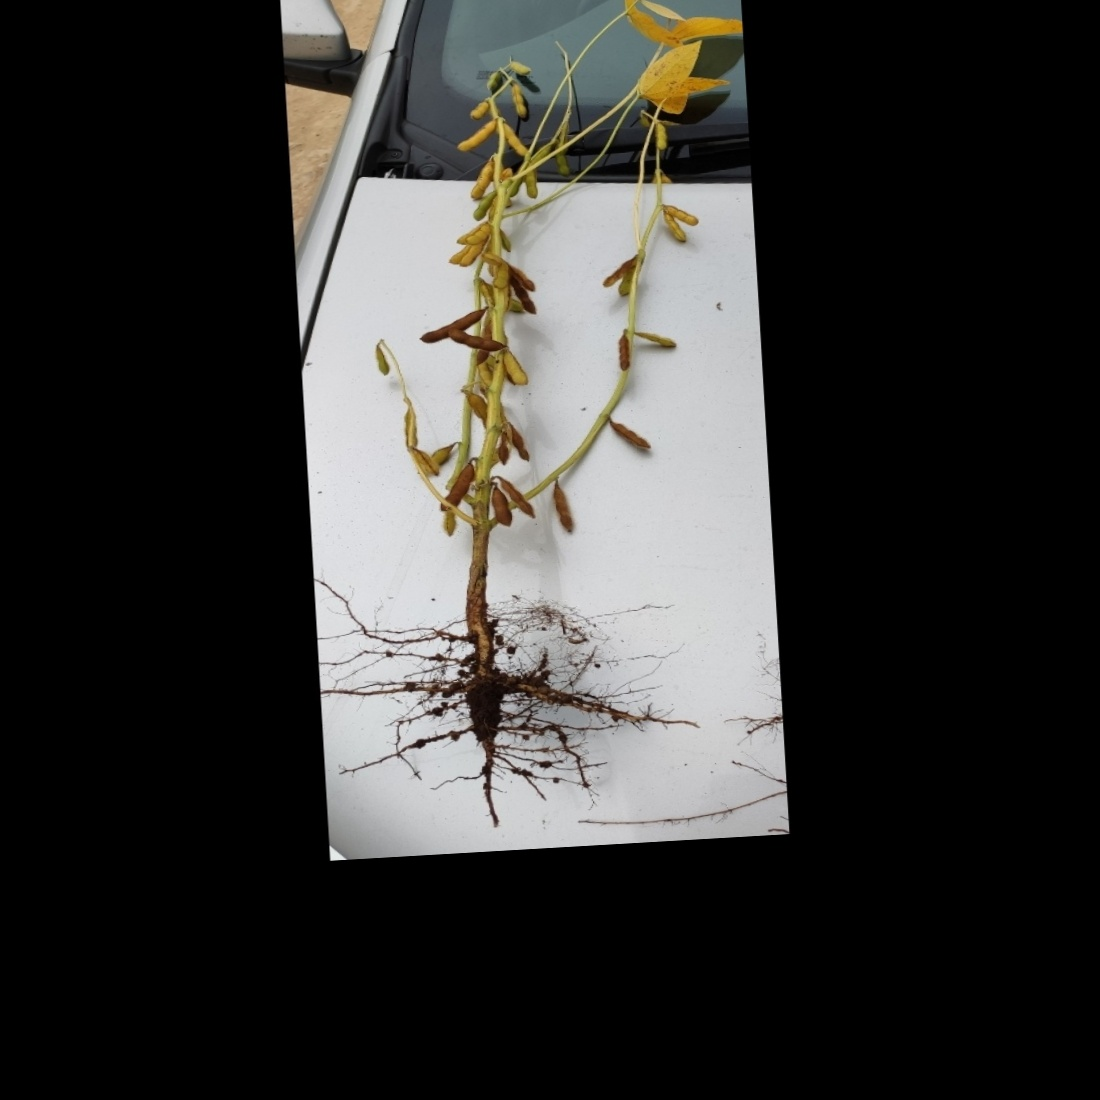pod: (417, 301, 494, 346), (446, 112, 510, 157), (436, 461, 485, 514), (550, 468, 584, 541), (444, 322, 511, 355), (604, 415, 652, 459), (482, 477, 518, 531), (467, 156, 505, 207), (620, 323, 680, 354), (656, 200, 703, 233), (507, 72, 531, 125), (648, 119, 678, 155), (499, 352, 529, 386), (367, 340, 391, 380), (462, 221, 499, 246), (610, 332, 631, 375), (482, 65, 502, 95)
soy: (335, 36, 730, 782)
